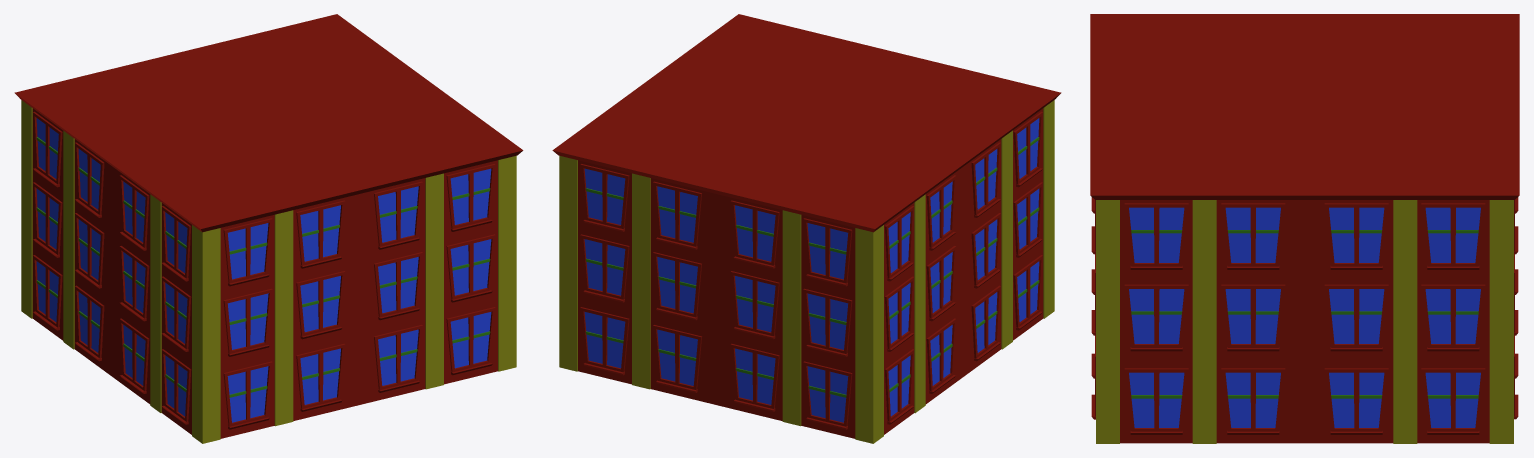
File: SM_Base_Building_8m_01.fbx
3 renders of one model, left to right at view 1: azimuth 30°, elevation 25°; view 2: azimuth 150°, elevation 25°; view 3: azimuth 270°, elevation 25°, orthographic. The views are drawn at different scales.
Parts seen in each view (by area): view 1: Base_8m_02; view 2: Base_8m_02; view 3: Base_8m_02.
Boxes of the visible parts, x1,y1,x2,y2 form: Base_8m_02: [14, 14, 523, 443]; Base_8m_02: [552, 14, 1061, 443]; Base_8m_02: [1090, 14, 1519, 443].
Bounding box in the file's own units: 12.41 × 8 × 12.41.
